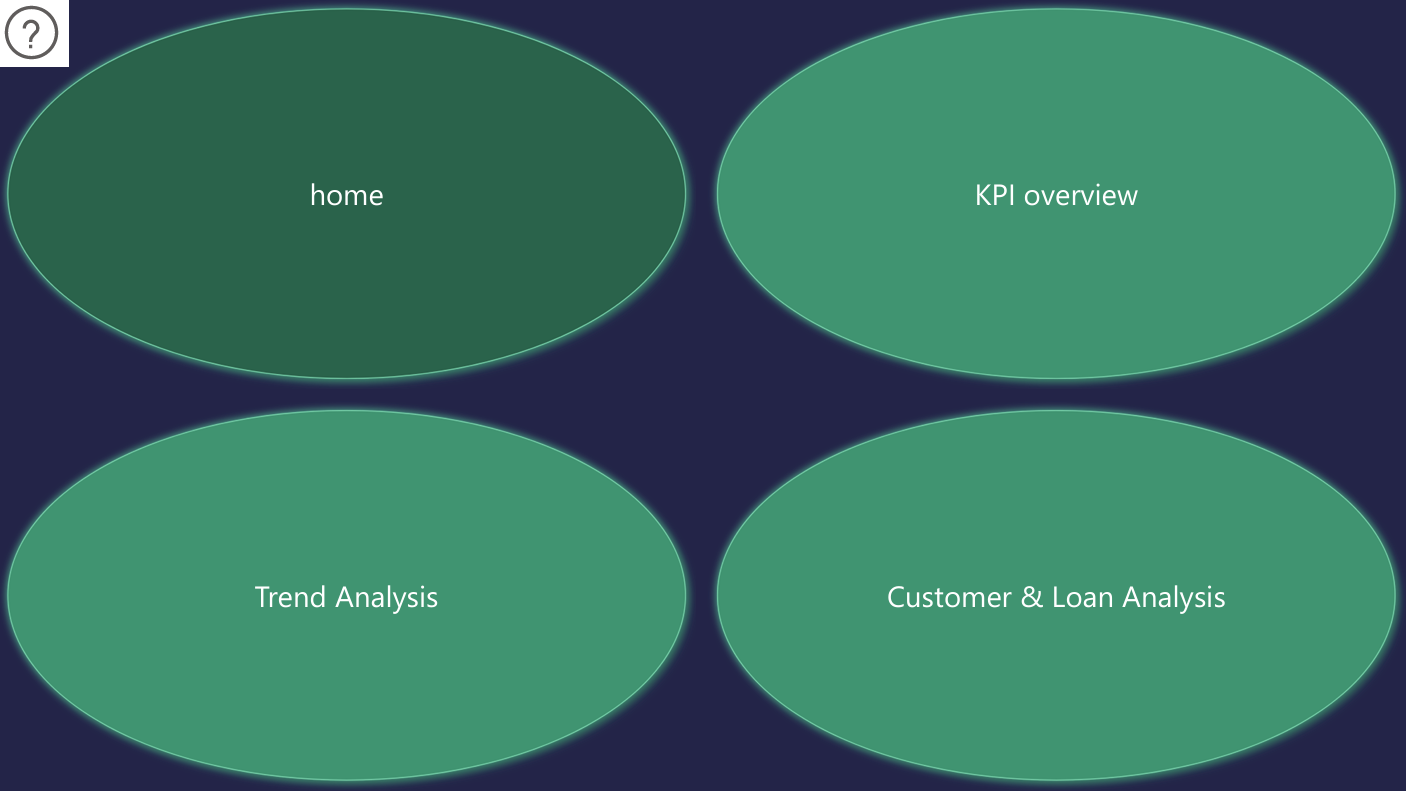

Layout of this report page (visuals, bound fields, positions):
{"tool":"powerbi","page":{"name":"home","canvas":[1280,720],"ordinal":0},"visuals":[{"type":"pageNavigator","box":[0,0,1280.1,720],"z":0},{"type":"actionButton","box":[0,0,65.1,61.8],"z":1}]}

Visuals, with their boxes in screenshot pixels (x1, y1, x2, y2), scaled from the page's 1280x720 canvas onto the 1406x793 screenshot:
pageNavigator: 0,0,1405,792
actionButton: 0,0,72,68
